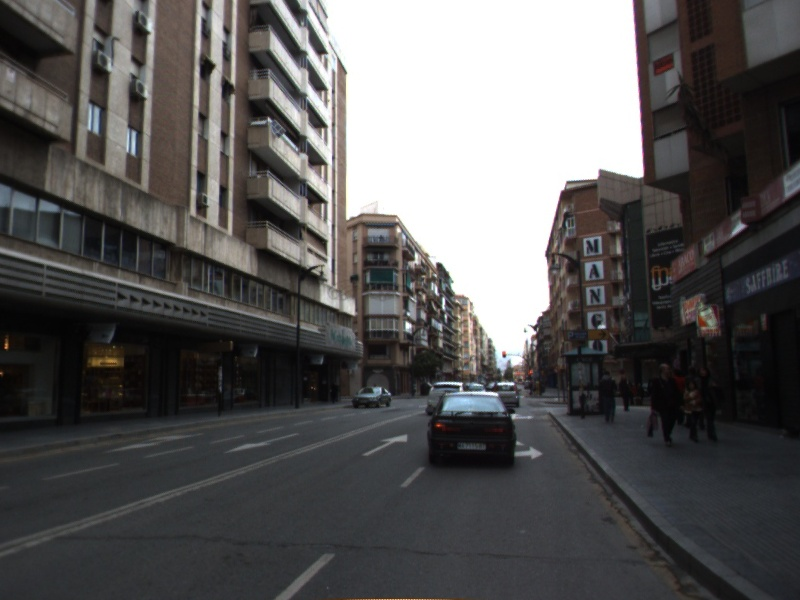STRAIGHT: (360, 432, 410, 458)
